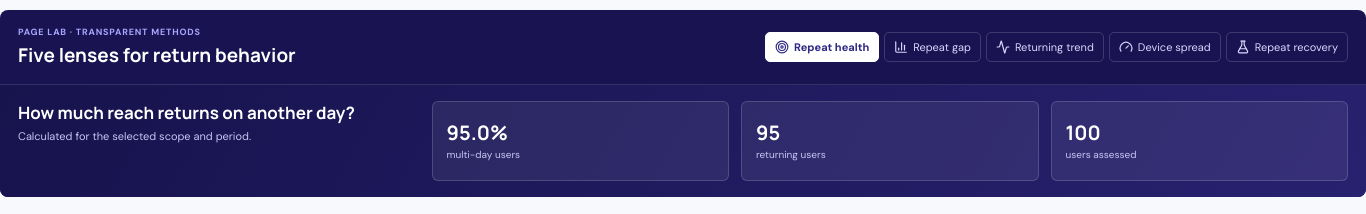
Test case: Bilingual lens presentation › caps return counts consistently with the displayed rate
Click the tab "Repeat recovery" at (1287, 47), box [1226,32,1348,62]
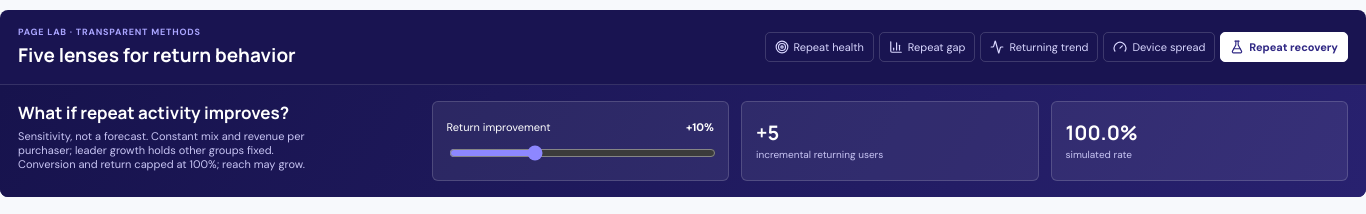
Result: the text "incremental returning users" is shown at [756,148,883,161]
Result: the text "simulated rate" is shown at [1066,148,1132,161]
